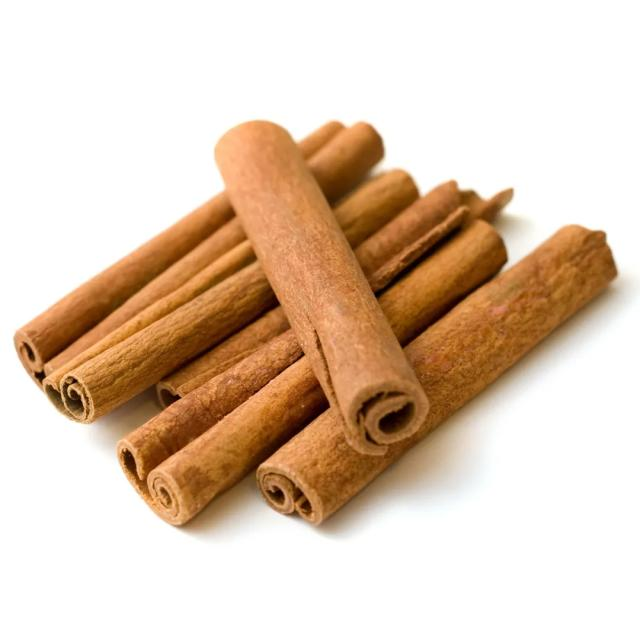Cinnamon: (258, 226, 614, 524), (215, 121, 429, 454), (14, 191, 234, 383), (60, 261, 276, 423), (44, 218, 246, 374), (118, 330, 301, 501), (148, 358, 328, 524), (378, 220, 508, 344), (354, 180, 460, 276), (368, 206, 470, 292), (334, 170, 419, 247), (306, 121, 384, 204)
